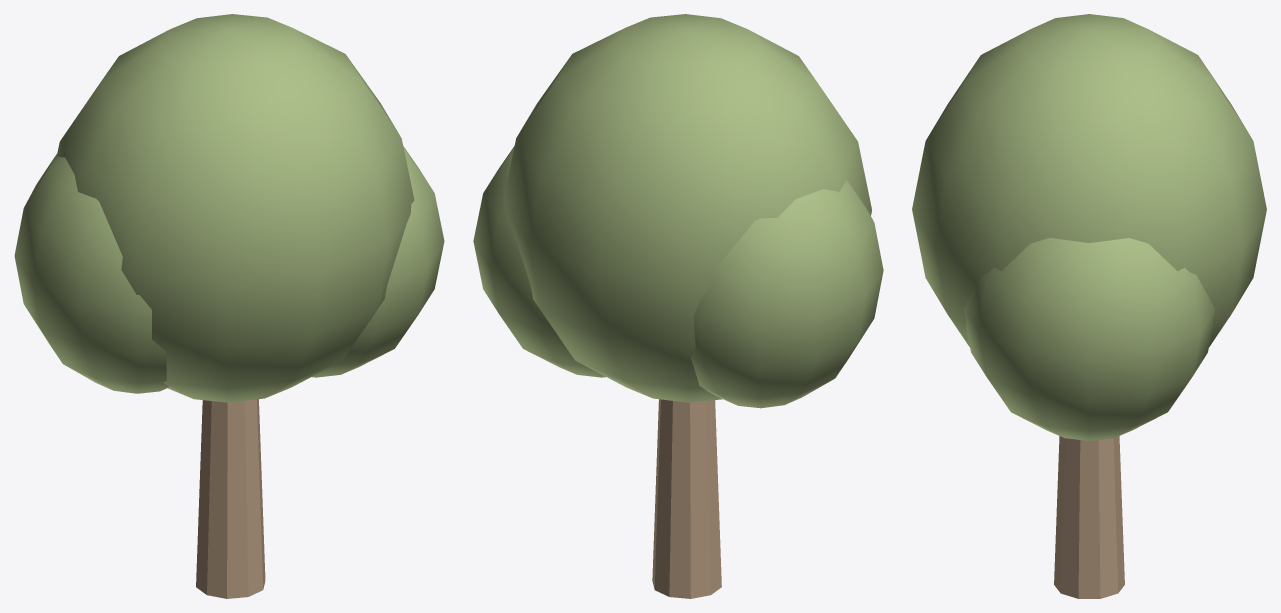
The model's file is tree.glb.
3 views of the same model, side by side, from view 1: azimuth 30°, elevation 25°; view 2: azimuth 150°, elevation 25°; view 3: azimuth 270°, elevation 25° (orthographic).
Parts seen in each view (by area): view 1: tree; view 2: tree; view 3: tree.
Boxes of the visible parts, x1,y1,x2,y2 form: tree: (14,14,444,598); tree: (473,14,883,598); tree: (912,14,1266,598).
Size of the model in its own units: 2.25 by 3.1 by 1.8.
